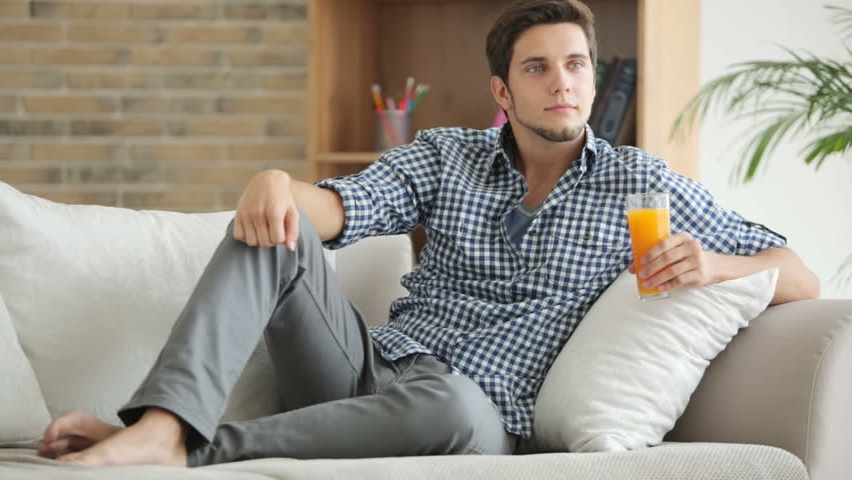not_fallen: (22, 9, 829, 474)
